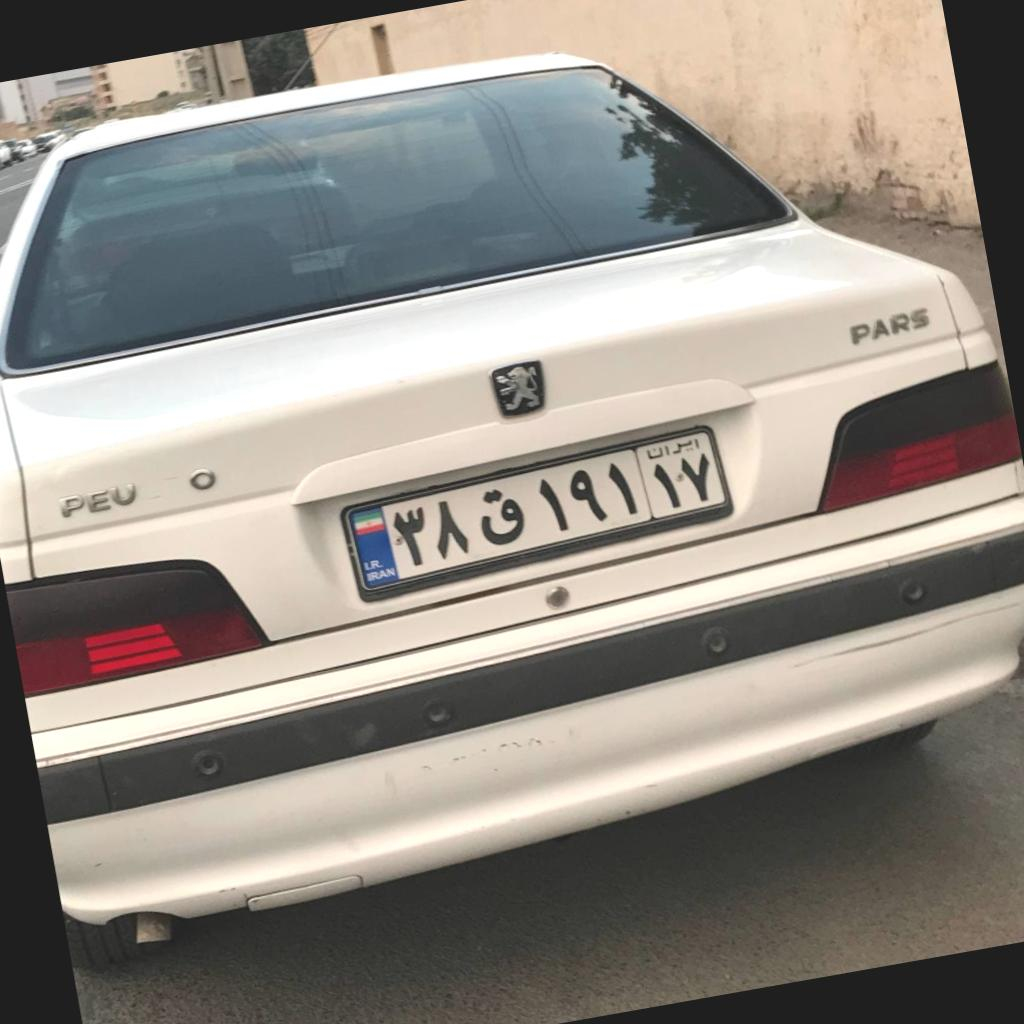Plates: (347, 431, 726, 589)
